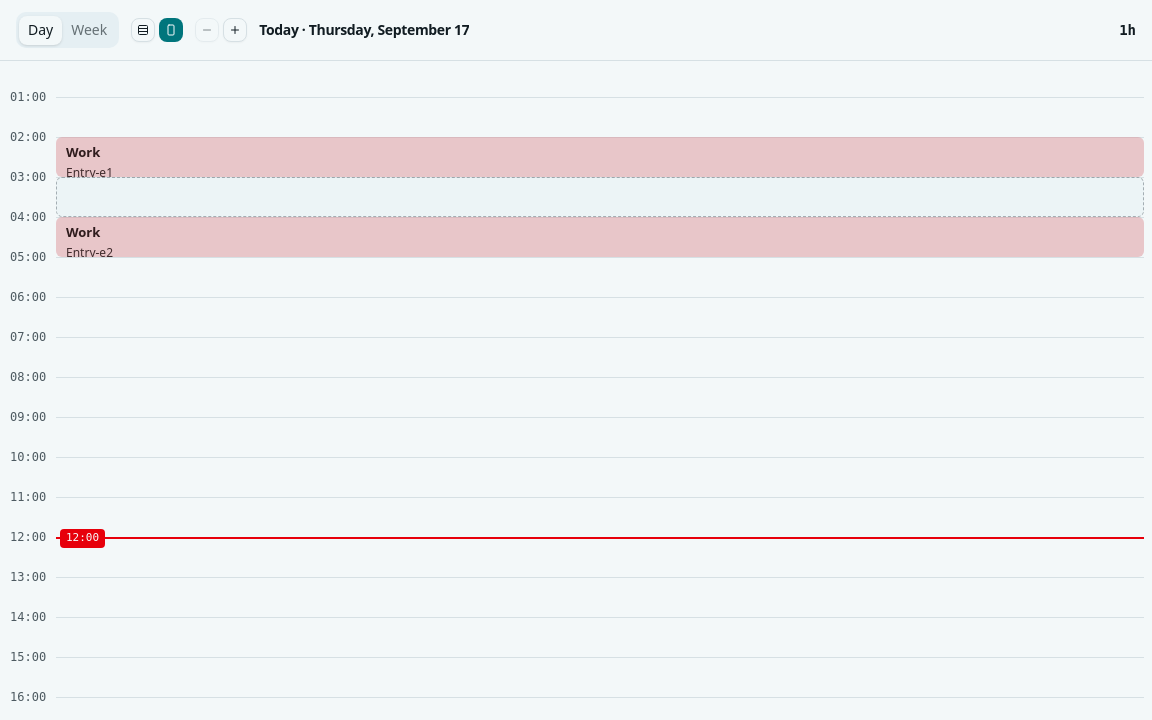
Test: Timeline 相邻条目合并 › 两条相邻条目：编辑器中「与上一条合并」可用，确认后 POST merge + 刷新
Click the element with class "timeline-block" showing "Work Entry-e2 04:00 – 05:00 1h": x=600, y=237 [56, 217, 1144, 257]
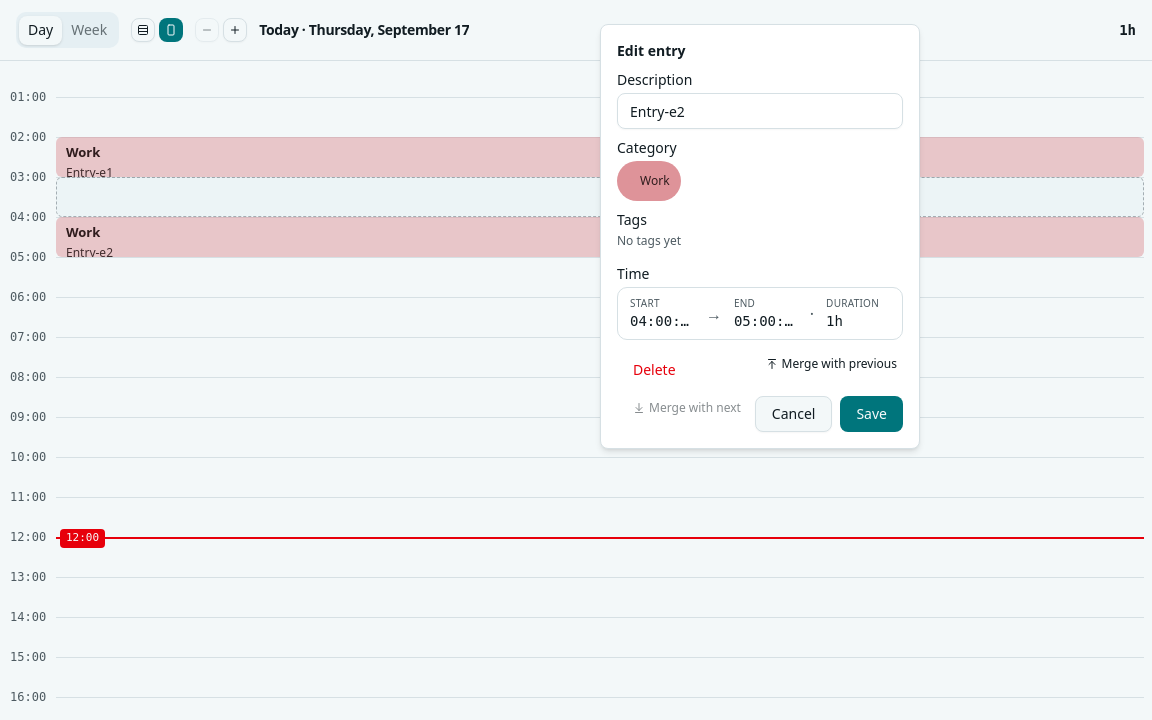
Result: the heading "Edit entry" is shown at [617, 41, 686, 60]
Result: the button "Merge with previous" is enabled
Result: the button "Merge with next" is disabled at [627, 396, 747, 420]
Click the button "Merge with previous": x=831, y=364 [760, 352, 903, 376]
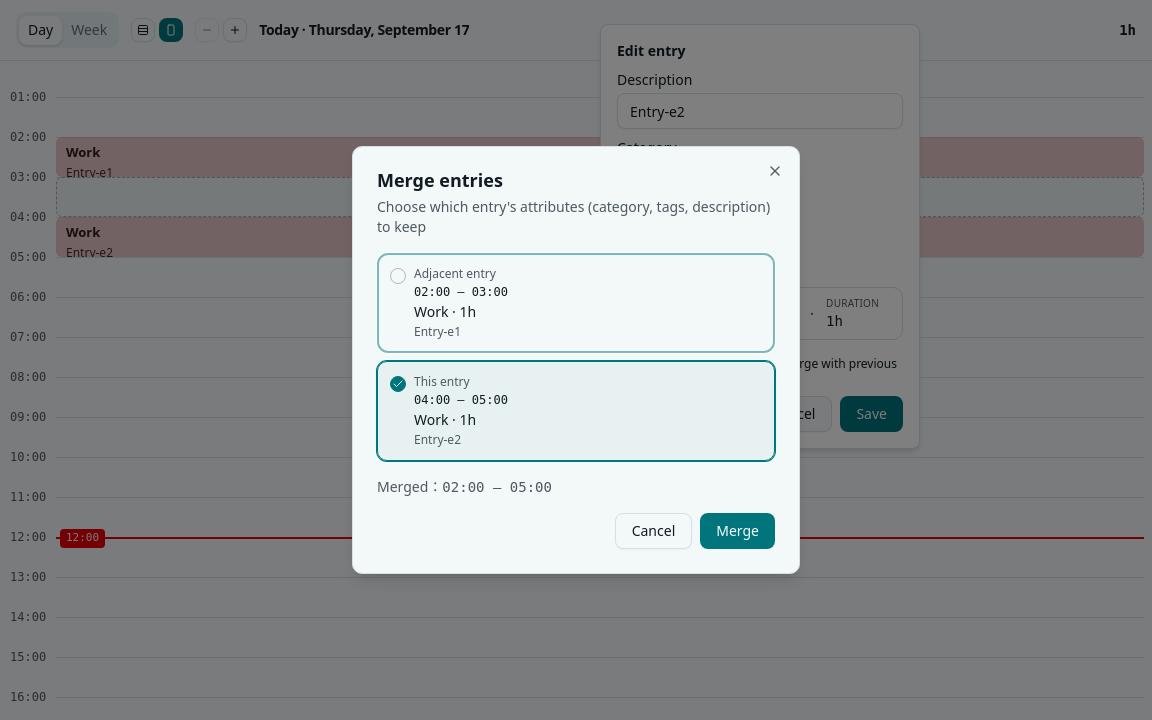
Result: the heading "Merge entries" is shown at [377, 168, 503, 192]
Click the text "Adjacent entry": x=455, y=274 [414, 265, 496, 282]
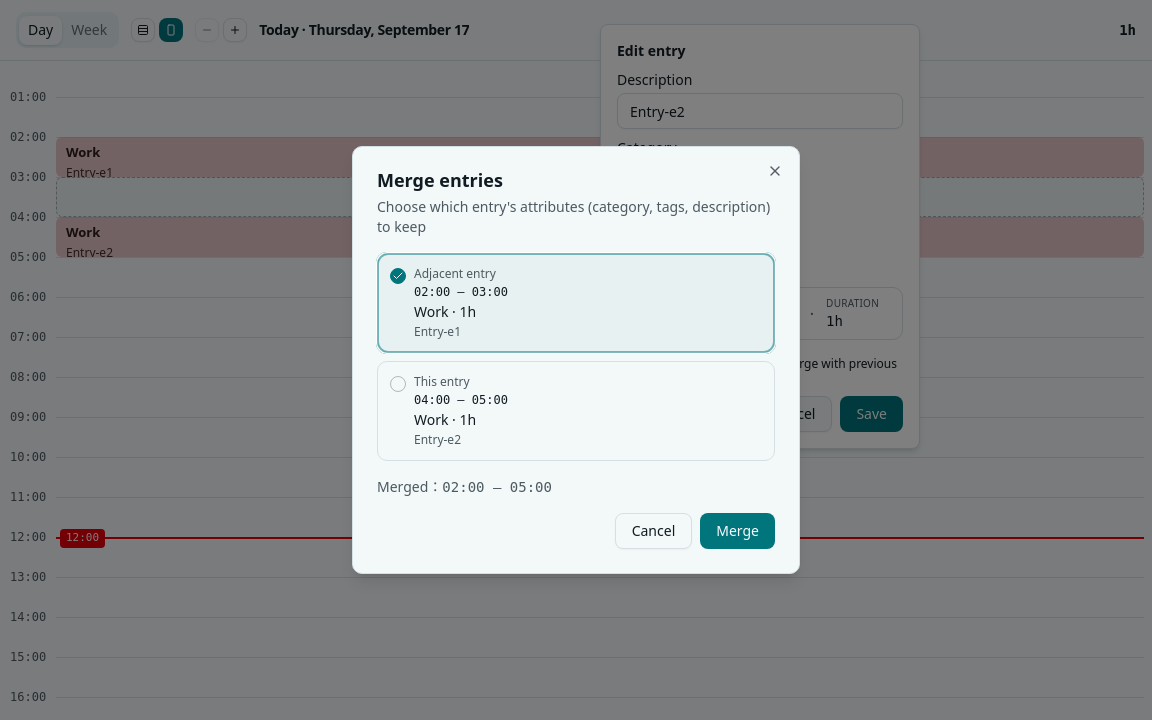
Click the button "Merge": x=738, y=531 [700, 513, 775, 549]
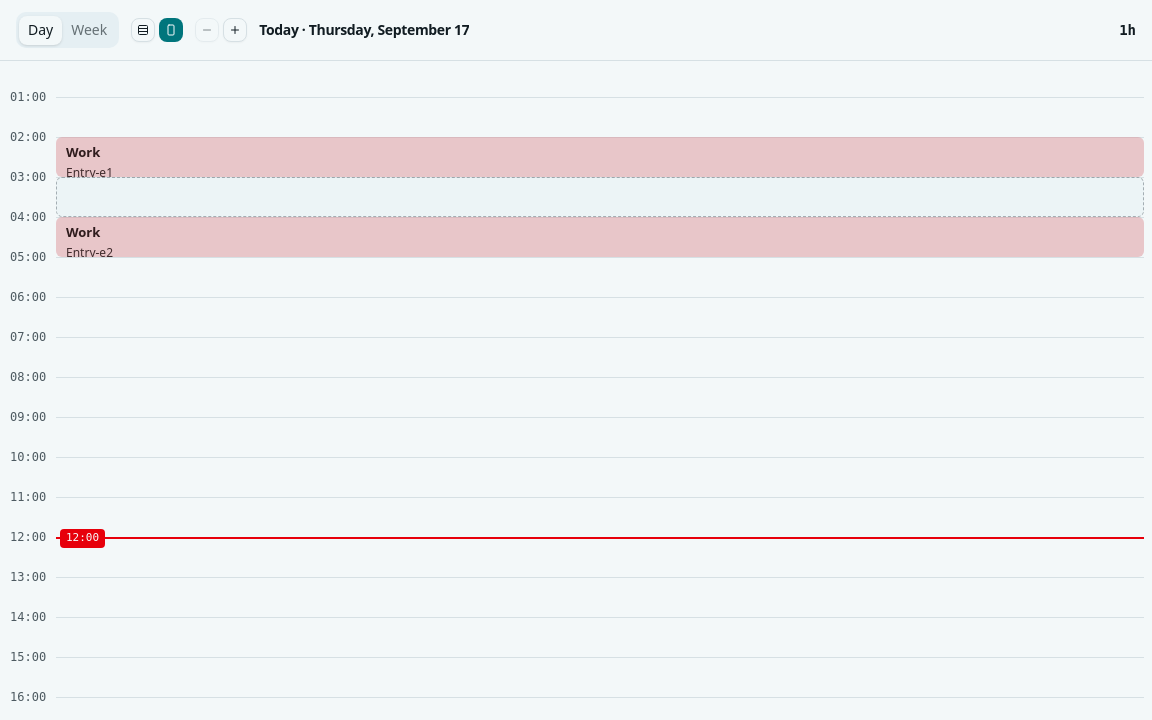
Result: the heading "Edit entry" is gone
